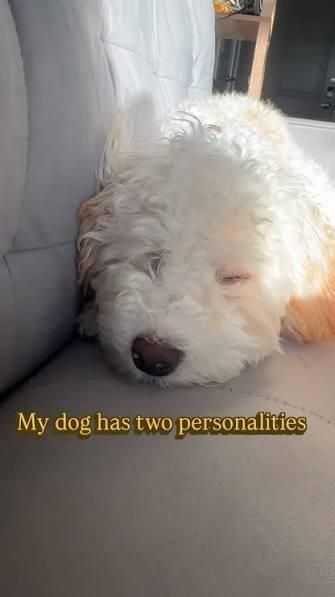adult_dog: (73, 91, 335, 389)
